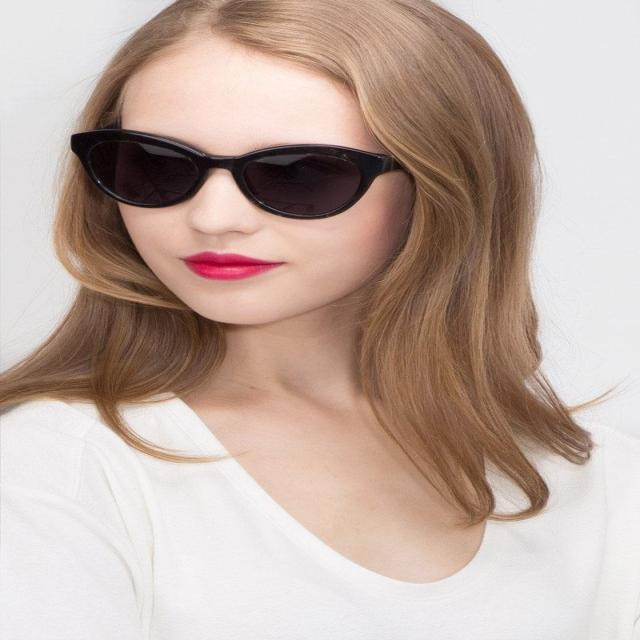2_gafas: (68, 127, 409, 220)
